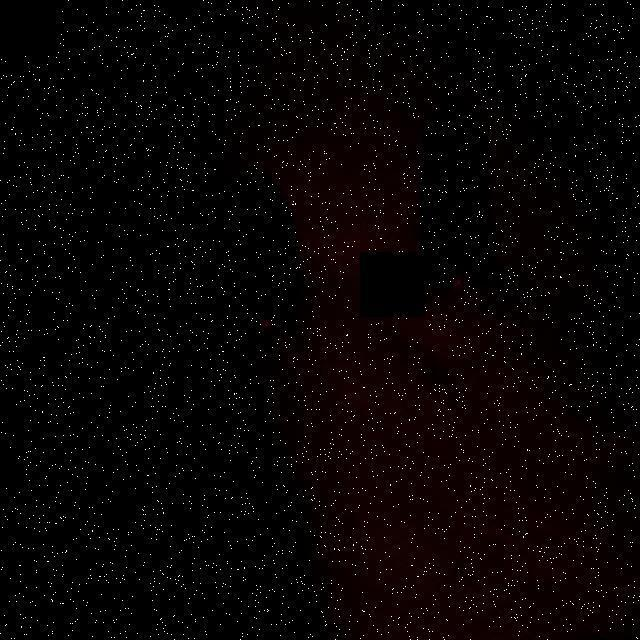egg: (413, 178, 499, 304), (226, 226, 302, 346)
